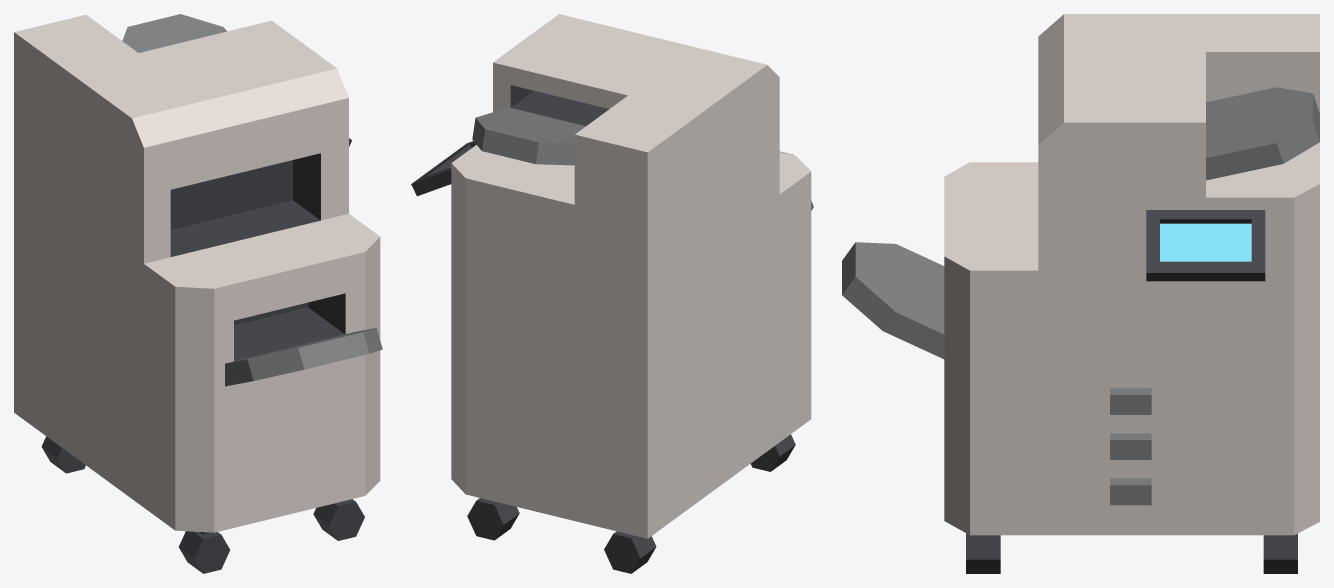
File: bigprinter3.fbx
3 renders of one model, left to right at view 1: azimuth 30°, elevation 25°; view 2: azimuth 150°, elevation 25°; view 3: azimuth 270°, elevation 25°, orthographic. The views are drawn at different scales.
Visible parts, largest first — view 1: printer1.002; view 2: printer1.002; view 3: printer1.002.
Part boxes in pixels (x1,y1,x2,y2): printer1.002: (14, 14, 382, 573); printer1.002: (411, 14, 813, 573); printer1.002: (842, 14, 1319, 573).
Size of the model in its own units: 111 by 177 by 164.
